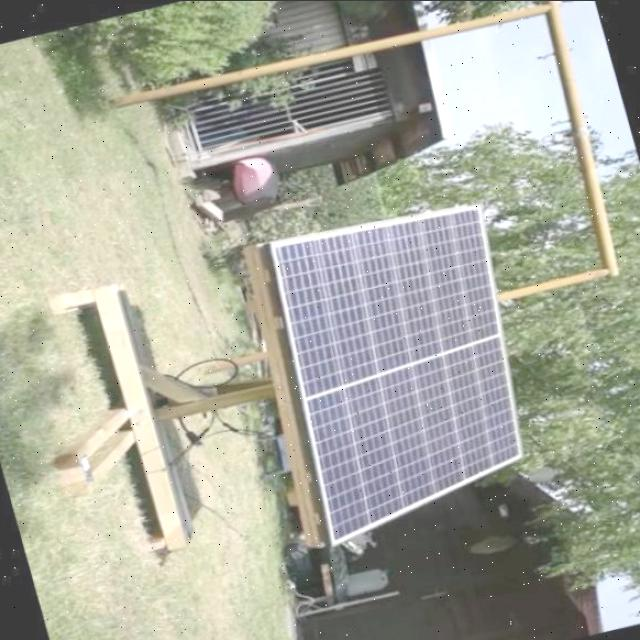Normal Solar Panel: (251, 192, 558, 546)
